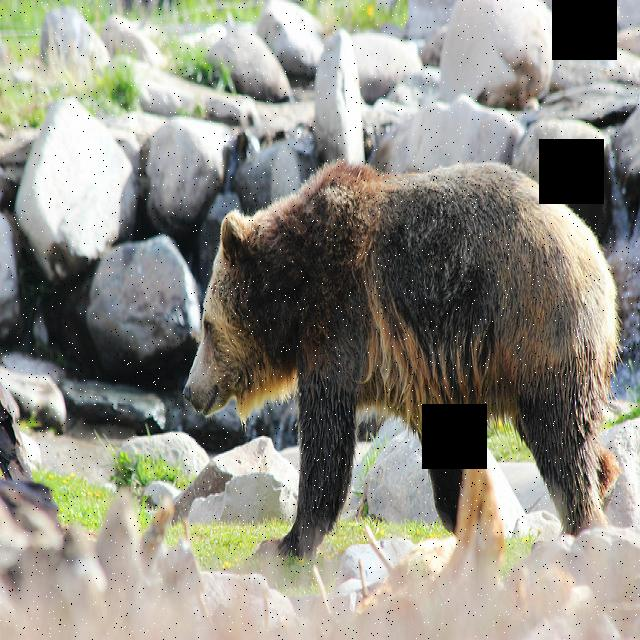Bear: (179, 148, 632, 540)
